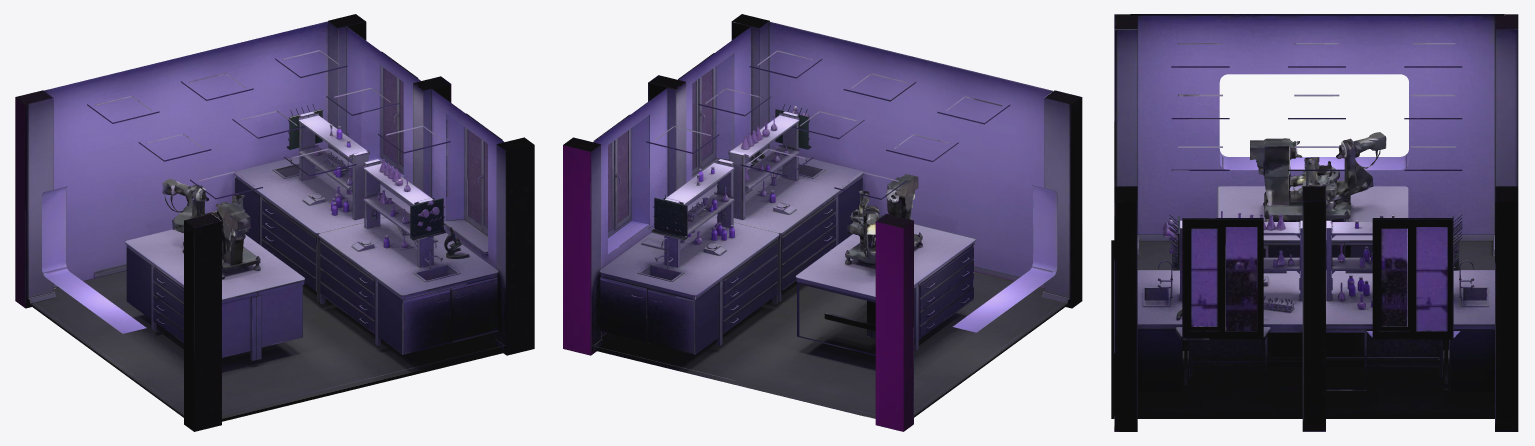
Rendered from epik_01_compressed.glb.
3 views of the same model, side by side, from view 1: azimuth 30°, elevation 25°; view 2: azimuth 150°, elevation 25°; view 3: azimuth 270°, elevation 25° (orthographic). The views are drawn at different scales.
Visible parts, largest first — view 1: Cube.001; view 2: Cube.001; view 3: Cube.001.
Part boxes in pixels (x1,y1,x2,y2): Cube.001: (15, 14, 534, 431); Cube.001: (563, 14, 1082, 431); Cube.001: (1111, 14, 1518, 431).
Size of the model in its own units: 4.46 by 2.41 by 3.86.
Materials: 1 (1 with a texture image).
